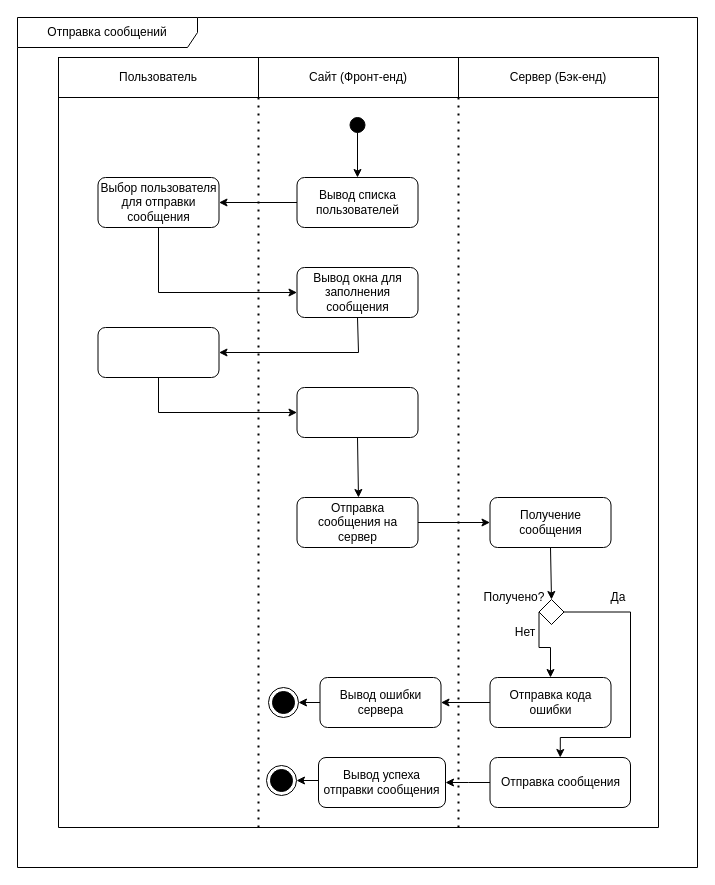
This 715x885 diagram has some shape labels left out. The shapes that lost their labels are listed below. From the top down, each one's box as (x1, y1, x2, y2) in pixels, then its label:
(97, 326, 219, 378): Ввод сообщение и отправка
(296, 386, 418, 438): Формирование сообщения
